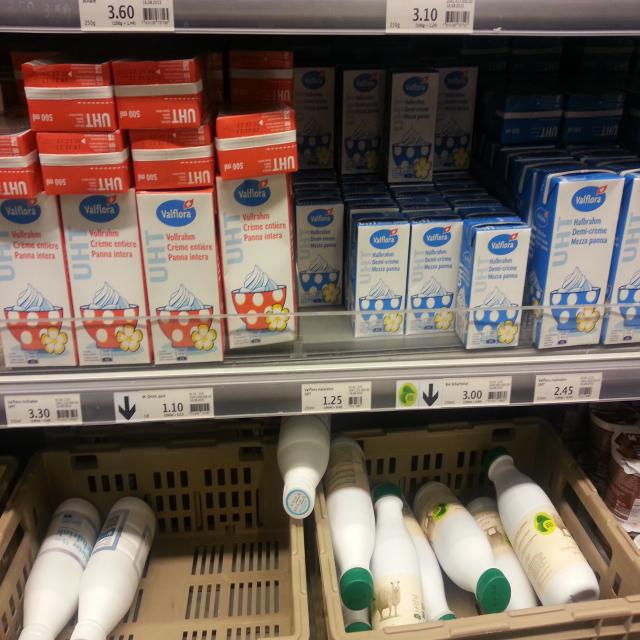Creme: (520, 167, 624, 345), (60, 190, 150, 367), (135, 191, 225, 363), (216, 173, 298, 352), (0, 190, 78, 367), (453, 214, 533, 348), (348, 211, 412, 336), (404, 215, 465, 332), (20, 58, 117, 131), (110, 59, 200, 130), (291, 192, 344, 308), (33, 129, 129, 193), (386, 69, 438, 185), (216, 105, 296, 173), (432, 65, 480, 172), (292, 66, 339, 170), (126, 130, 215, 184), (341, 69, 385, 172), (494, 94, 560, 146), (1, 126, 45, 198), (562, 99, 624, 145)
Milk: (484, 446, 602, 611), (411, 482, 511, 616), (68, 496, 156, 640), (20, 495, 101, 639), (320, 435, 377, 606), (370, 482, 425, 634), (277, 418, 332, 518)
